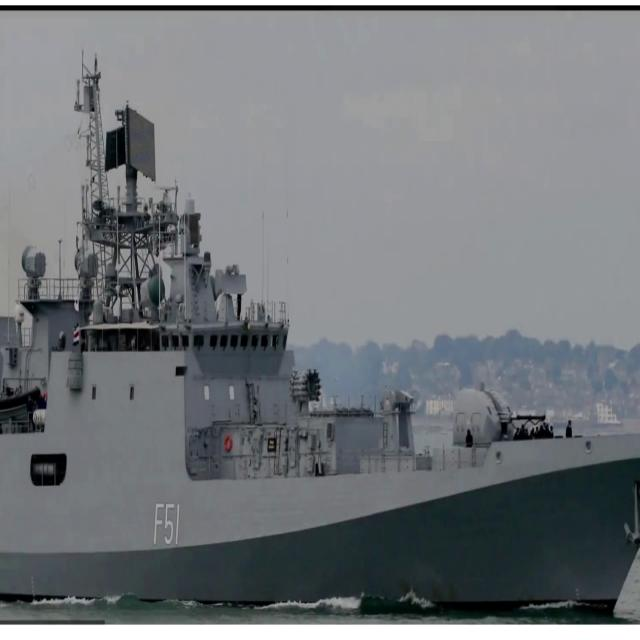OCR: (149, 498, 183, 550)
